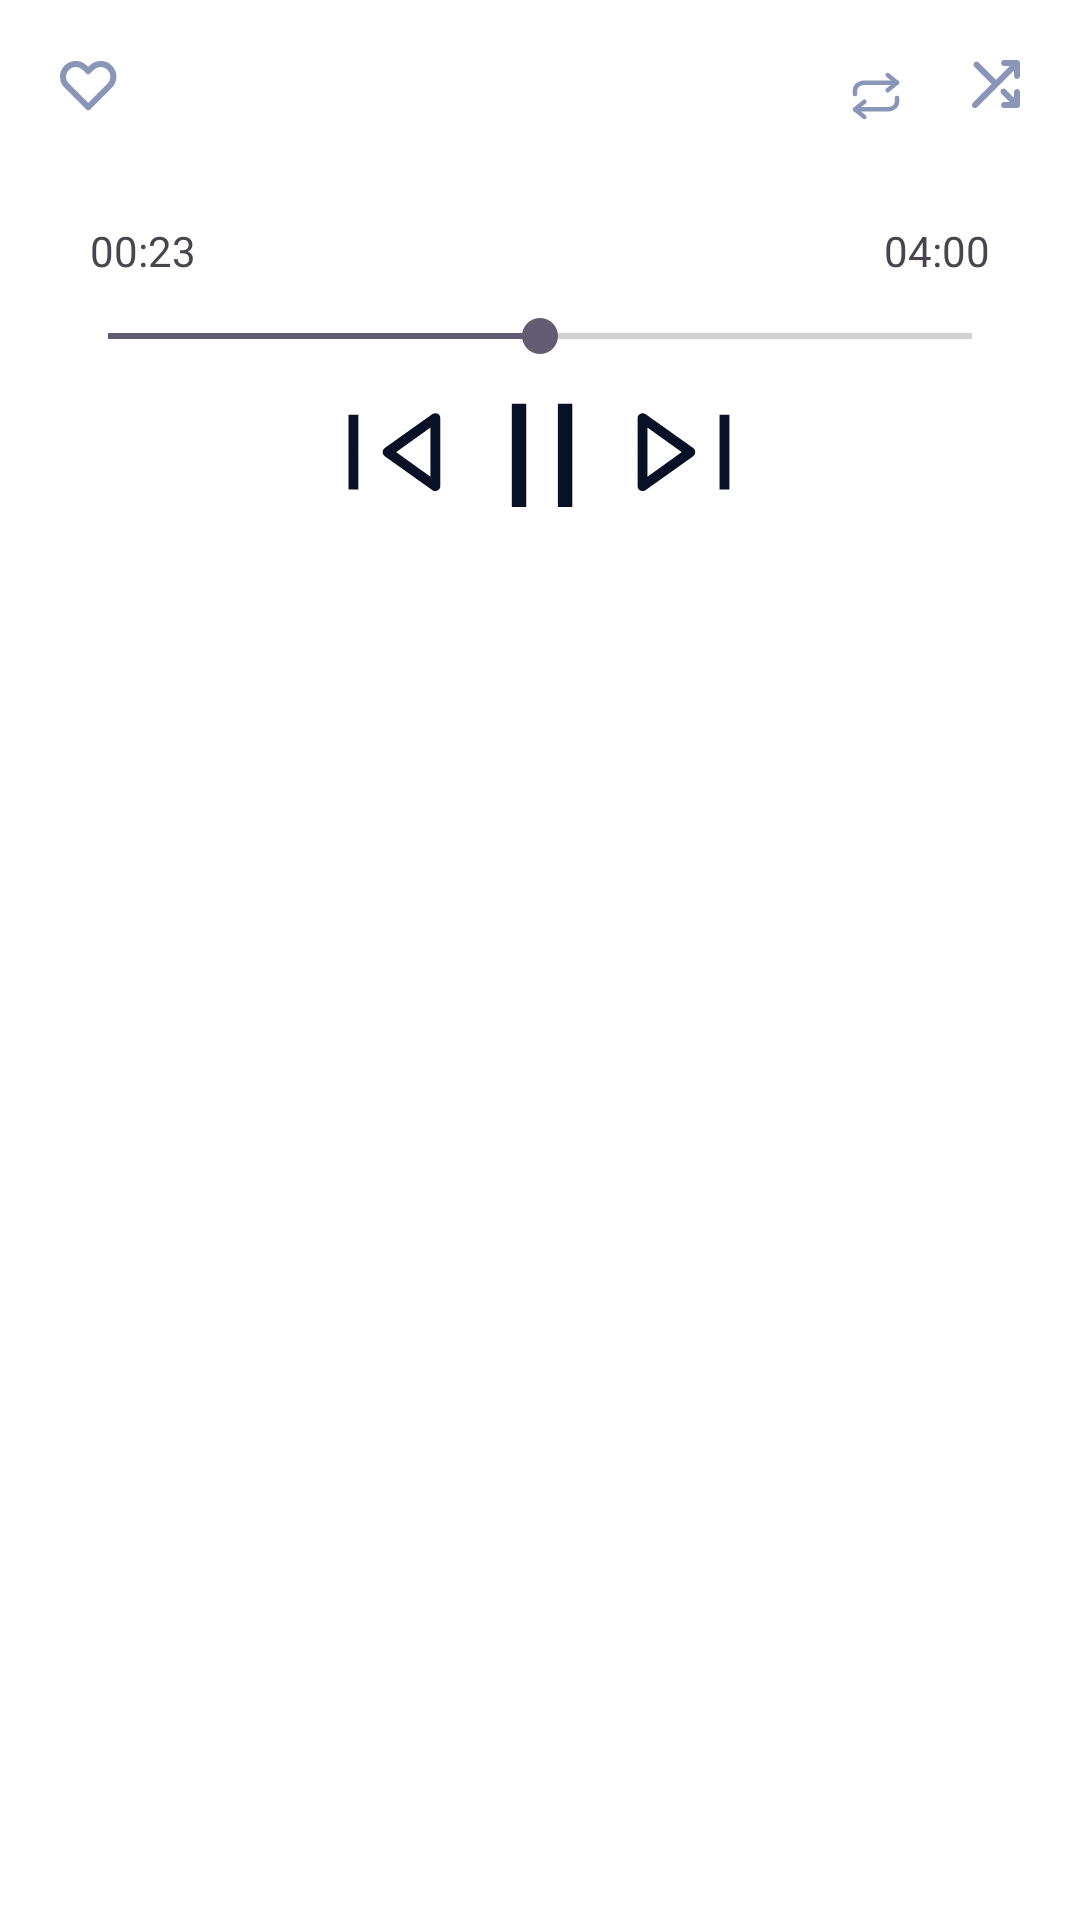

Named icons in this screenshot (1080px×1920px) and their centers, point (x, y):
heart: point (88, 86)
next left: point (394, 452)
next right: point (683, 452)
pause: point (542, 455)
radom: point (996, 84)
replay: point (876, 96)
